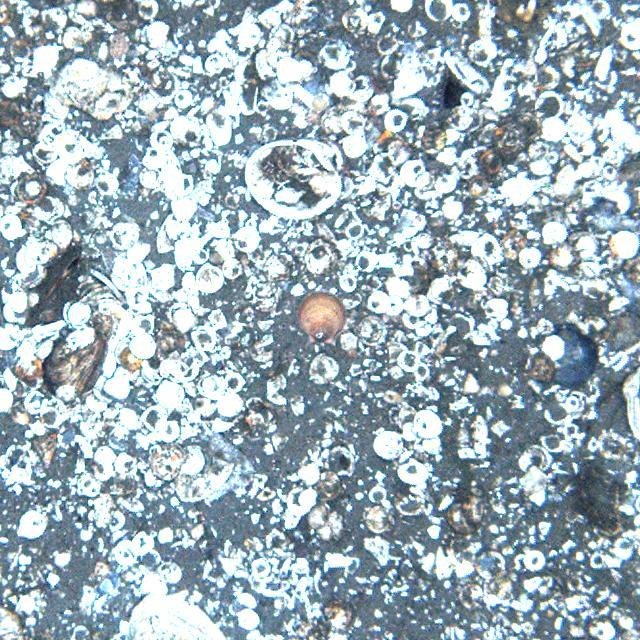scallop: (298, 288, 352, 346)
